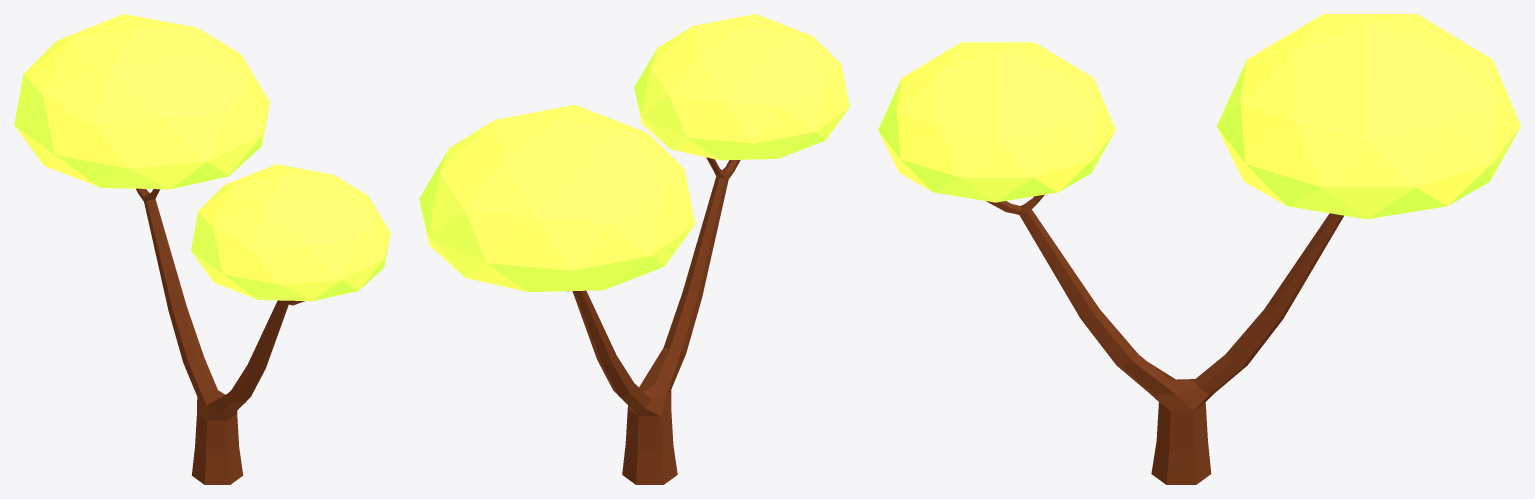
File: maple2.glb
The picture shows the model from 3 angles, left to right: view 1: azimuth 30°, elevation 25°; view 2: azimuth 150°, elevation 25°; view 3: azimuth 270°, elevation 25°; orthographic projection. The views are drawn at different scales.
Parts seen in each view (by area): view 1: Tree2; view 2: Tree2; view 3: Tree2.
Part boxes in pixels (box(x1,y1,x2,y2)): Tree2: box(14, 14, 390, 484); Tree2: box(419, 14, 849, 484); Tree2: box(878, 14, 1520, 484).
Size of the model in its own units: 289 by 498 by 643.
